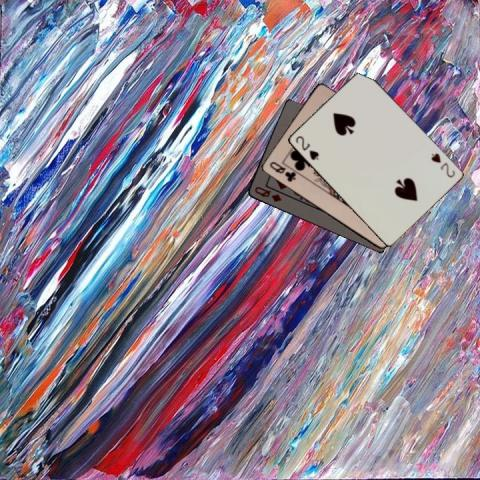2s: (428, 150, 456, 179), (292, 133, 320, 161)
Qc: (267, 159, 297, 183)
Qd: (251, 184, 283, 204)
